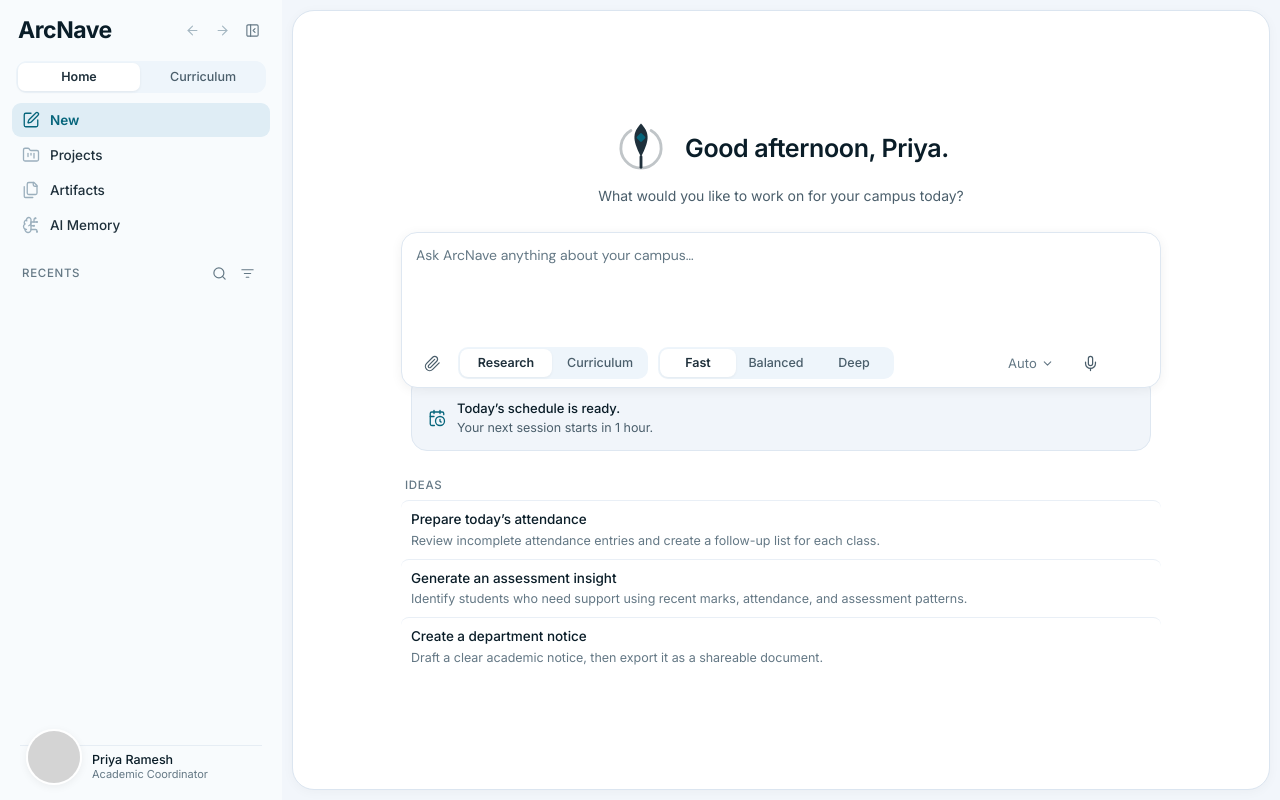
Test: ArcNave workspace flows › moves the composer to a docked chat and adds the conversation to Recents
Type "Create an attendance summary for second-year CSE students" into the text box named "Message ArcNave" at (782, 293), box [416,245,1148,341]
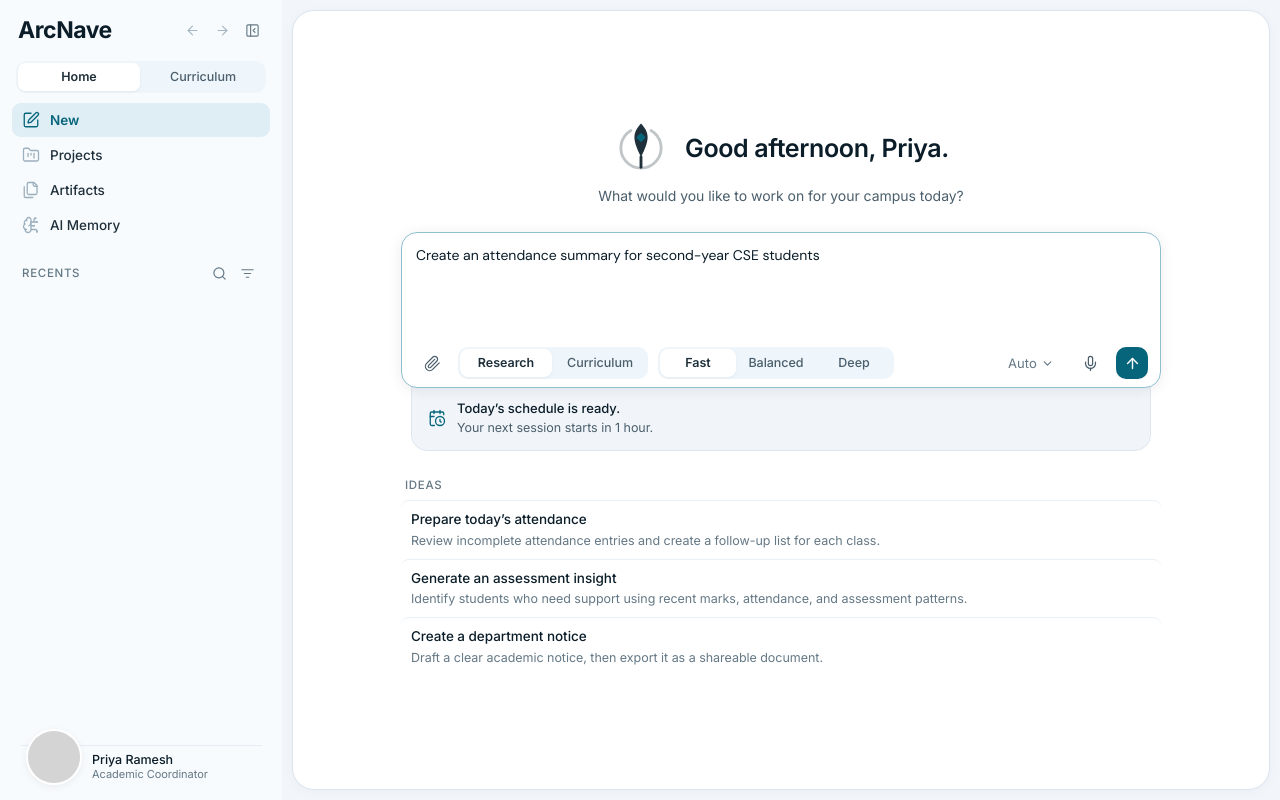
Click the button named "send message" at (1132, 363), box [1116,347,1148,379]
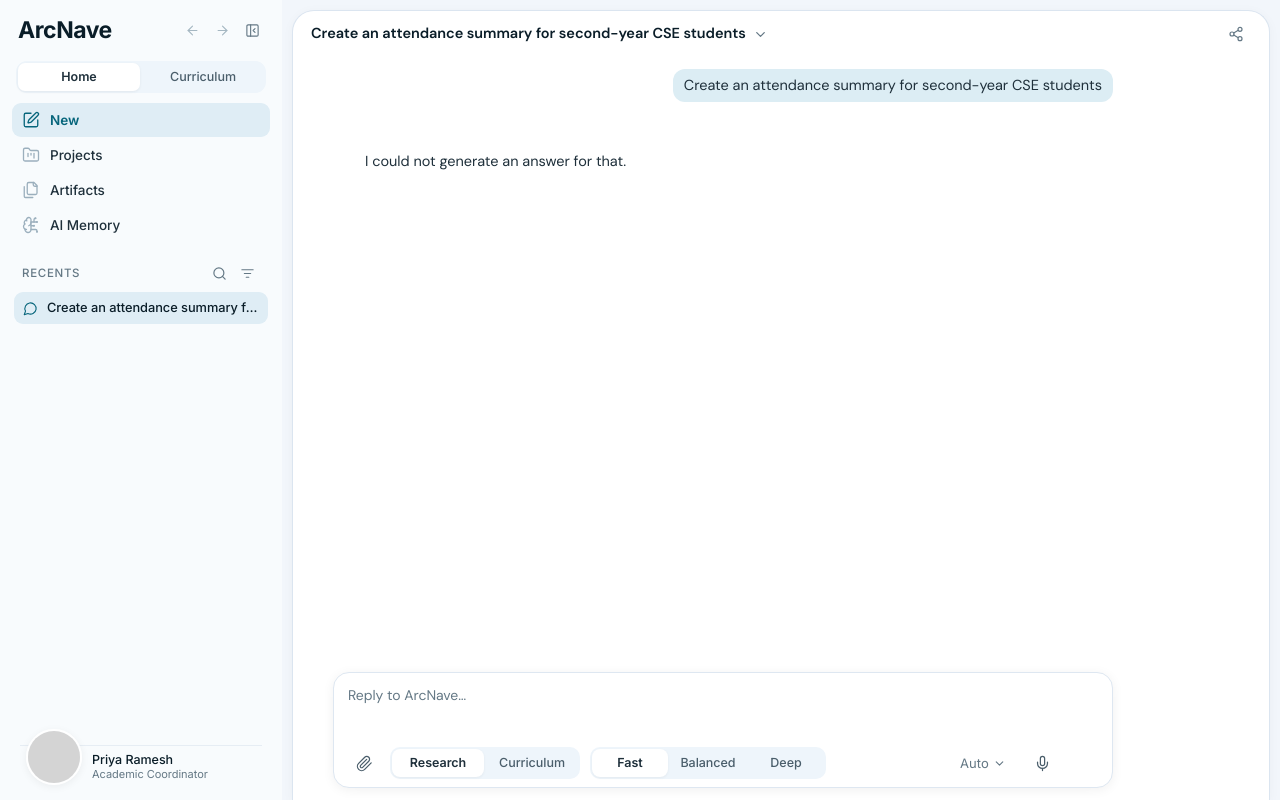
Check: the text box with placeholder "Reply to ArcNave…" is shown, box [348,685,1100,741]
